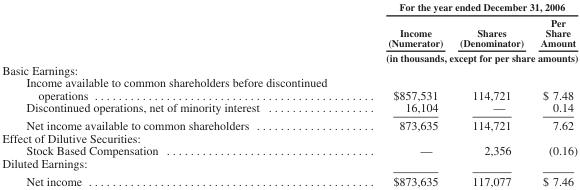table: (1, 1, 577, 187)
table column: (1, 1, 355, 187), (355, 1, 450, 187), (450, 1, 531, 187), (531, 1, 577, 187)
table column header: (1, 1, 577, 62)
table projected row header: (1, 156, 577, 171), (1, 62, 577, 75), (1, 131, 577, 143)
table row: (1, 14, 577, 49), (1, 75, 577, 101), (1, 171, 577, 187), (1, 101, 577, 116), (1, 116, 577, 131), (1, 156, 577, 171), (1, 1, 577, 14), (1, 49, 577, 62), (1, 62, 577, 75), (1, 143, 577, 156), (1, 131, 577, 143)
table spanning cell: (355, 1, 577, 14), (355, 49, 577, 62)
